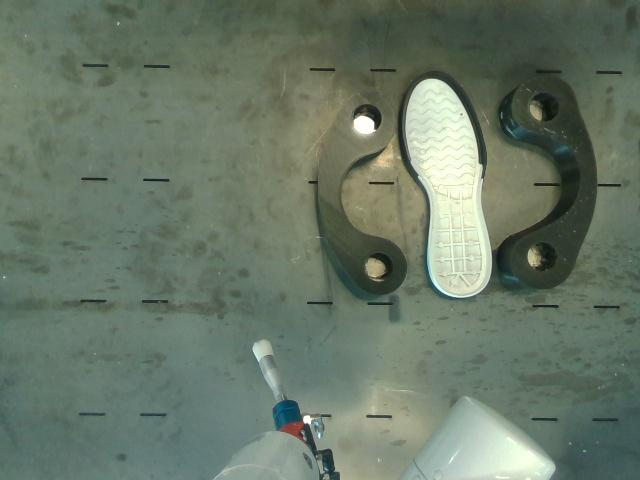shoes: (399, 71, 492, 297)
